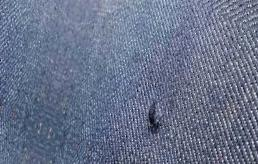knot: (144, 100, 169, 134)
